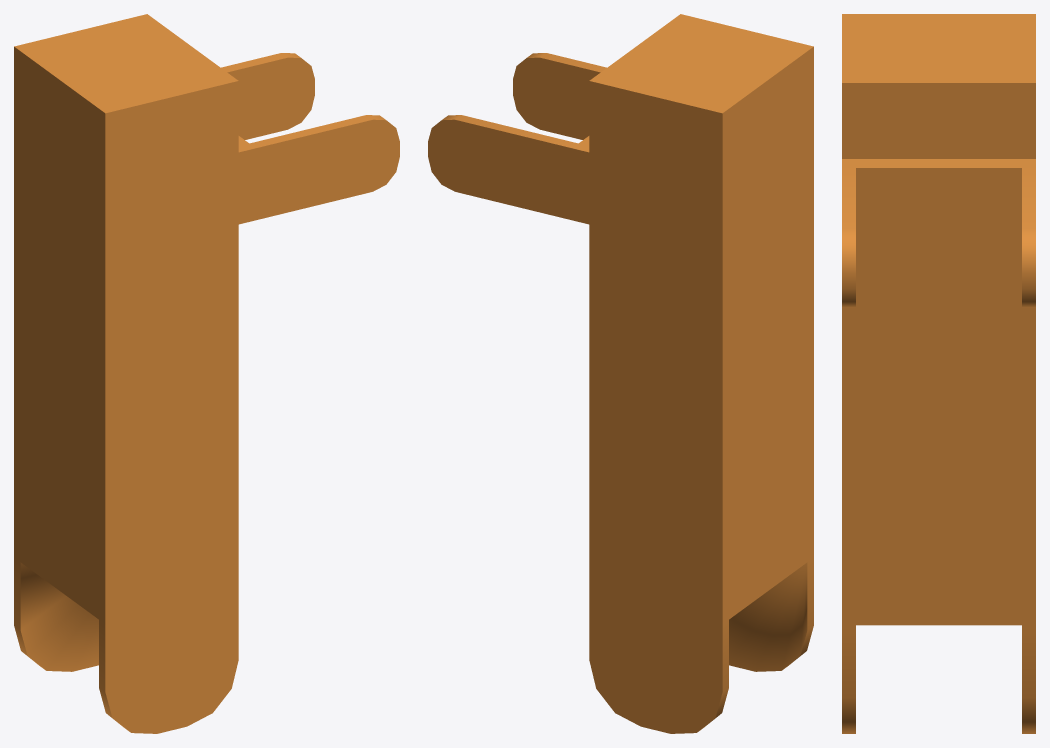
The model's file is arm.fbx.
The picture shows the model from 3 angles, left to right: view 1: azimuth 30°, elevation 25°; view 2: azimuth 150°, elevation 25°; view 3: azimuth 270°, elevation 25°; orthographic projection. The views are drawn at different scales.
Visible parts, largest first — view 1: arm; view 2: arm; view 3: arm.
Boxes of the visible parts, x1,y1,x2,y2 form: arm: (14, 14, 399, 733); arm: (428, 14, 813, 733); arm: (842, 14, 1035, 733).
Size of the model in its own units: 52.83 by 109 by 28.39.
